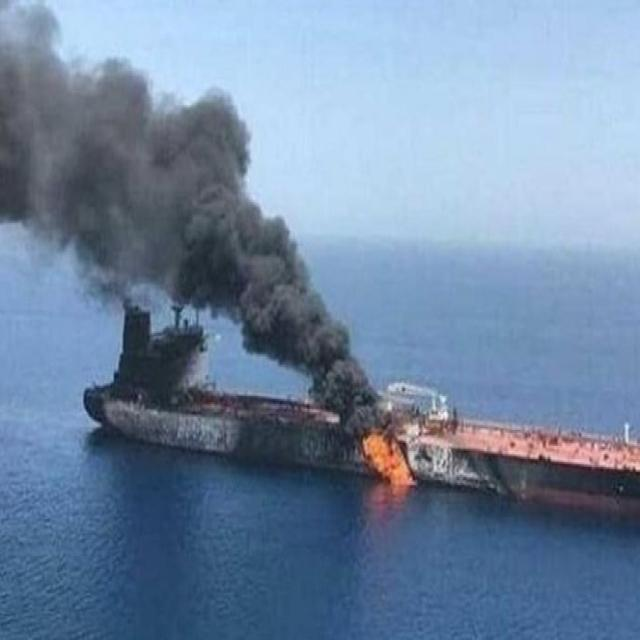cargoship: (89, 291, 392, 480)
